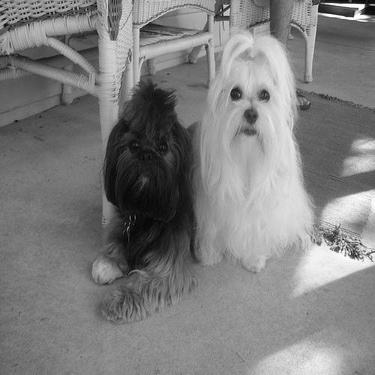dog: (171, 24, 333, 282), (68, 59, 212, 332)
